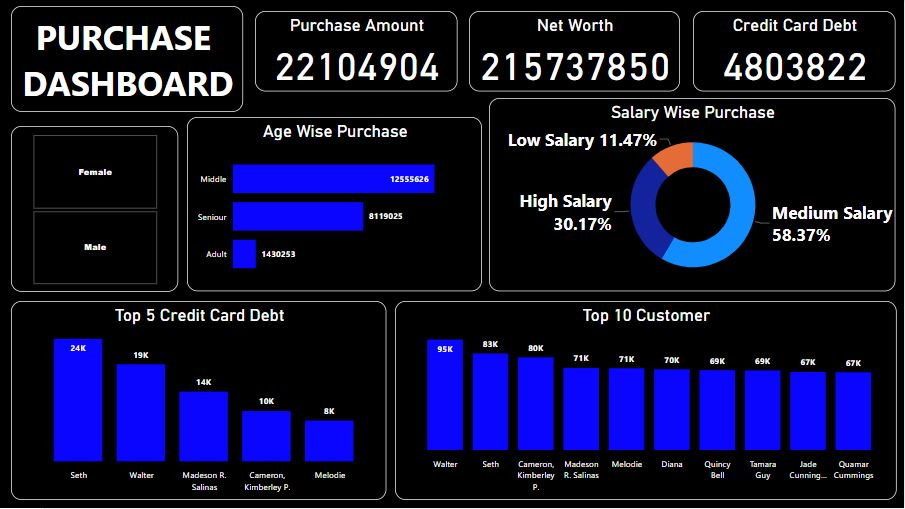

This screenshot's page, from the dashboard's own definition file:
{"tool":"powerbi","page":{"name":"Page 1","canvas":[1280,720],"ordinal":0},"visuals":[{"type":"card","title":"Net Worth","fields":{"Values":["Sum(Car_Purchasing_Data.Net Worth)"]},"box":[665.2,15.1,299,114.2],"z":0},{"type":"card","title":"Credit Card Debt","fields":{"Values":["Sum(Car_Purchasing_Data.Credit Card Debt)"]},"box":[982.7,15.1,287.2,114.2],"z":1000},{"type":"clusteredBarChart","title":"Age Wise Purchase","fields":{"Y":["Sum(Car_Purchasing_Data.Car Purchase Amount)"],"Category":["Car_Purchasing_Data.Age Group"]},"box":[265.4,166.3,418.3,246.9],"z":2000},{"type":"card","title":"Purchase Amount","fields":{"Values":["Sum(Car_Purchasing_Data.Car Purchase Amount)"]},"box":[361.2,15.1,287.2,114.2],"z":3000},{"type":"columnChart","title":"Top 10 Customer","fields":{"Category":["Car_Purchasing_Data.Customer Name"],"Y":["Sum(Car_Purchasing_Data.Car Purchase Amount)"]},"box":[559.4,426.7,710.6,282.2],"z":4000},{"type":"donutChart","title":"Salary Wise Purchase","fields":{"Category":["Car_Purchasing_Data.salary group"],"Y":["Sum(Car_Purchasing_Data.Car Purchase Amount)"]},"box":[693.8,139.4,576.2,273.8],"z":5000},{"type":"columnChart","title":"Top 5 Credit Card Debt","fields":{"Category":["Car_Purchasing_Data.Customer Name"],"Y":["Sum(Car_Purchasing_Data.Credit Card Debt)"]},"box":[15.1,426.7,532.5,282.2],"z":6000},{"type":"slicer","fields":{"Values":["Car_Purchasing_Data.Gender"]},"box":[15.1,178.1,236.9,235.2],"z":7000},{"type":"textbox","box":[15.1,8.4,329.2,149.5],"z":7001}]}

Visuals, with their boxes in screenshot pixels (x1, y1, x2, y2), scaled from the page's 1280x720 canvas onto the 905x509 screenshot:
"Net Worth" card: pyautogui.locateOnScreen(470, 11, 682, 91)
"Credit Card Debt" card: pyautogui.locateOnScreen(695, 11, 898, 91)
"Age Wise Purchase" clusteredBarChart: pyautogui.locateOnScreen(188, 118, 483, 292)
"Purchase Amount" card: pyautogui.locateOnScreen(255, 11, 458, 91)
"Top 10 Customer" columnChart: pyautogui.locateOnScreen(396, 302, 898, 501)
"Salary Wise Purchase" donutChart: pyautogui.locateOnScreen(491, 99, 898, 292)
"Top 5 Credit Card Debt" columnChart: pyautogui.locateOnScreen(11, 302, 387, 501)
slicer - Car_Purchasing_Data.Gender: pyautogui.locateOnScreen(11, 126, 178, 292)
textbox: pyautogui.locateOnScreen(11, 6, 243, 112)
